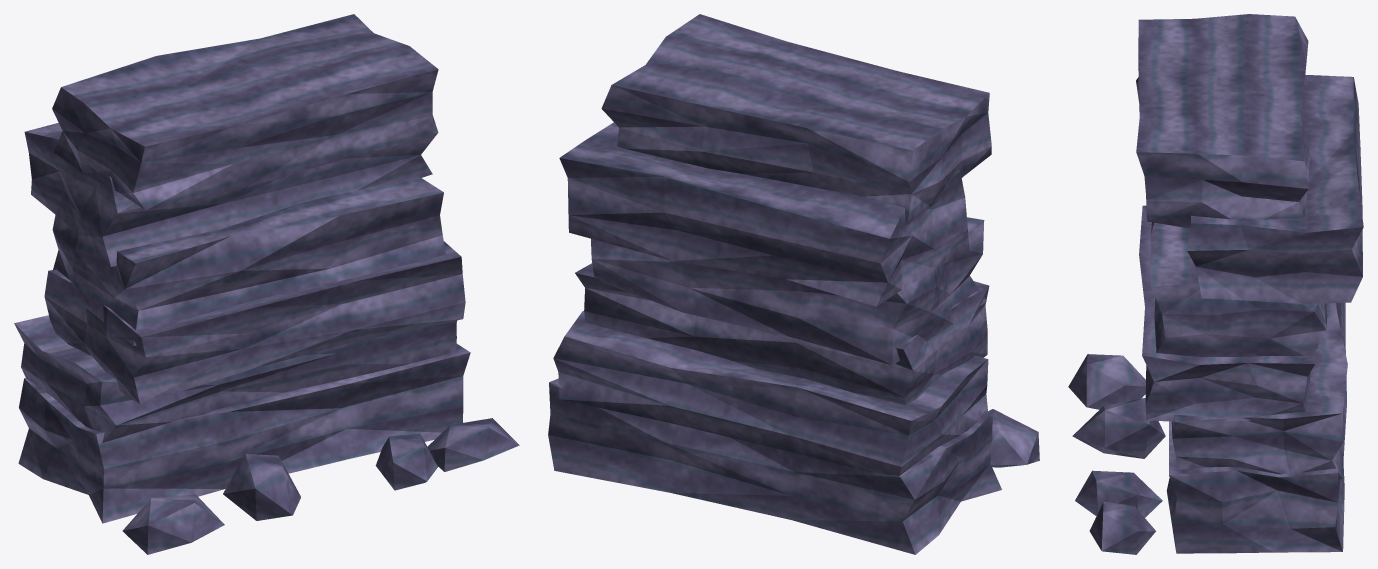
Rendered from cliff_strata.glb.
3 renders of one model, left to right at view 1: azimuth 30°, elevation 25°; view 2: azimuth 150°, elevation 25°; view 3: azimuth 270°, elevation 25°, orthographic. The views are drawn at different scales.
Visible parts, largest first — view 1: cliff_strata; view 2: cliff_strata; view 3: cliff_strata.
Boxes of the visible parts, left/top/right/bottom form: cliff_strata: left=14, top=14, right=519, bottom=554; cliff_strata: left=548, top=14, right=1039, bottom=554; cliff_strata: left=1068, top=14, right=1363, bottom=554.
Bounding box in the file's own units: 4.84 × 4.69 × 3.29.
Materials: 4 (4 with a texture image).
